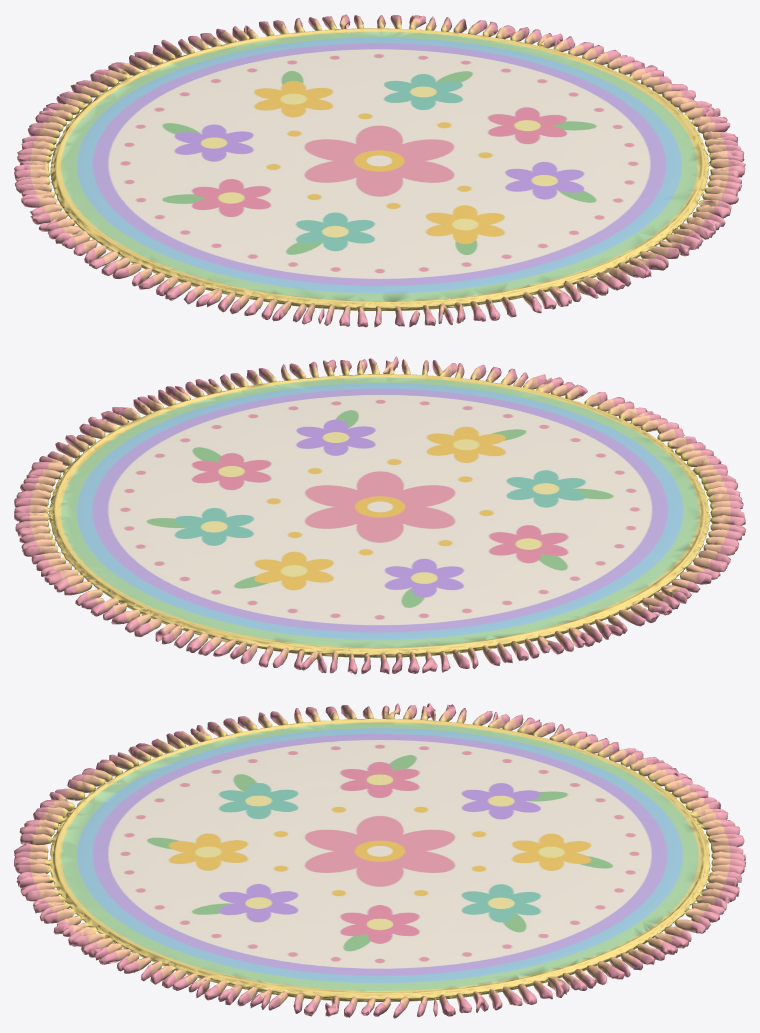
The model's file is flowerRug.glb.
3 renders of one model, top to bottom at view 1: azimuth 30°, elevation 25°; view 2: azimuth 150°, elevation 25°; view 3: azimuth 270°, elevation 25°, orthographic.
Size of the model in its own units: 1 by 0.025 by 1.
1 material, 1 textured.
